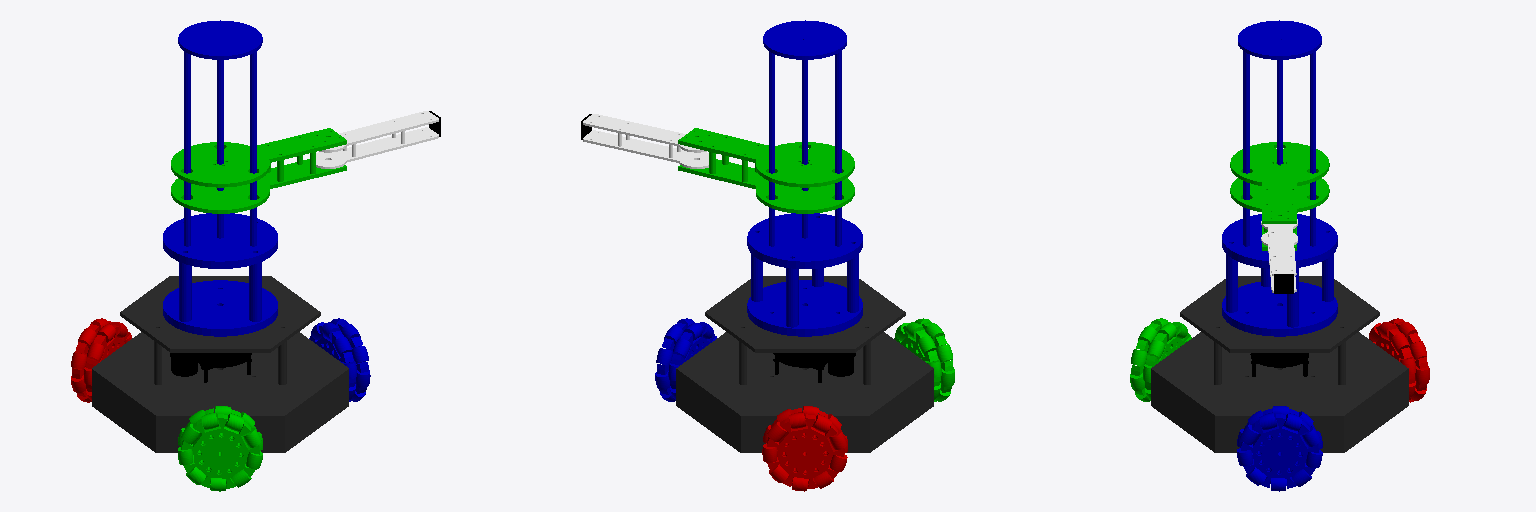
URDF robot description (My_robot):
<?xml version="1.0" encoding="utf-8"?>
<!-- This URDF was automatically created by SolidWorks to URDF Exporter! Originally created by [author] ([email redacted]) 
     Commit Version: 1.6.0-1-g15f4949  Build Version: 1.6.7594.29634
     For more information, please see http://wiki.ros.org/sw_urdf_exporter -->
<robot name="My_robot">
  <!---gazebo-->
  <gazebo>
    <plugin name="gazebo_ros_control" filename="libgazebo_ros_control.so">
      <robotNamespace>/My_robot</robotNamespace>
    </plugin>
  </gazebo>
  <gazebo reference="base_link">
    <kp>100000.0</kp>
    <kd>100.0</kd>
    <mu1>1.5</mu1>
    <mu2>1.5</mu2>
    <fdir1>1 0 0</fdir1>
    <maxVel>1.0</maxVel>
    <minDepth>0.001</minDepth>
    <material>Gazebo/Grey</material>
  </gazebo>
  <gazebo reference="lidar_Link">
    <kp>100000.0</kp>
    <kd>100.0</kd>
    <mu1>1.5</mu1>
    <mu2>1.5</mu2>
    <fdir1>1 0 0</fdir1>
    <maxVel>1.0</maxVel>
    <minDepth>0.001</minDepth>
    <material>Gazebo/Black</material>
  </gazebo>
  <gazebo reference="font_wheel_Link">
    <kp>100000.0</kp>
    <kd>100.0</kd>
    <mu1>1.5</mu1>
    <mu2>1.5</mu2>
    <fdir1>1 0 0</fdir1>
    <maxVel>1.0</maxVel>
    <minDepth>0.001</minDepth>
    <material>Gazebo/Blue</material>
  </gazebo>
  <gazebo reference="right_wheel_Link">
    <kp>100000.0</kp>
    <kd>100.0</kd>
    <mu1>1.5</mu1>
    <mu2>1.5</mu2>
    <fdir1>1 0 0</fdir1>
    <maxVel>1.0</maxVel>
    <minDepth>0.001</minDepth>
    <material>Gazebo/Green</material>
  </gazebo>
  <gazebo reference="left_wheel_Link">
    <kp>100000.0</kp>
    <kd>100.0</kd>
    <mu1>1.5</mu1>
    <mu2>1.5</mu2>
    <fdir1>1 0 0</fdir1>
    <maxVel>1.0</maxVel>
    <minDepth>0.001</minDepth>
    <material>Gazebo/Red</material>
  </gazebo>
  <gazebo reference="arm_Link">
    <kp>100000.0</kp>
    <kd>100.0</kd>
    <mu1>1.5</mu1>
    <mu2>1.5</mu2>
    <fdir1>1 0 0</fdir1>
    <maxVel>1.0</maxVel>
    <minDepth>0.001</minDepth>
    <material>Gazebo/Blue</material>
  </gazebo>
  <gazebo reference="arm1_Link">
    <kp>100000.0</kp>
    <kd>100.0</kd>
    <mu1>1.5</mu1>
    <mu2>1.5</mu2>
    <fdir1>1 0 0</fdir1>
    <maxVel>1.0</maxVel>
    <minDepth>0.001</minDepth>
    <material>Gazebo/Green</material>
  </gazebo>
  <gazebo reference="arm2_Link">
    <kp>100000.0</kp>
    <kd>100.0</kd>
    <mu1>1.5</mu1>
    <mu2>1.5</mu2>
    <fdir1>1 0 0</fdir1>
    <maxVel>1.0</maxVel>
    <minDepth>0.001</minDepth>
    <material>Gazebo/White</material>
  </gazebo>
  <gazebo reference="camera_Link">
    <kp>100000.0</kp>
    <kd>100.0</kd>
    <mu1>1.5</mu1>
    <mu2>1.5</mu2>
    <fdir1>1 0 0</fdir1>
    <maxVel>1.0</maxVel>
    <minDepth>0.001</minDepth>
    <material>Gazebo/Yellow</material>
  </gazebo>
  <gazebo reference="right_odom_Link">
    <kp>100000.0</kp>
    <kd>100.0</kd>
    <mu1>1.5</mu1>
    <mu2>1.5</mu2>
    <fdir1>1 0 0</fdir1>
    <maxVel>1.0</maxVel>
    <minDepth>0.001</minDepth>
    <material>Gazebo/White</material>
  </gazebo>
  <gazebo reference="font_odom_Link">
    <kp>100000.0</kp>
    <kd>100.0</kd>
    <mu1>1.5</mu1>
    <mu2>1.5</mu2>
    <fdir1>1 0 0</fdir1>
    <maxVel>1.0</maxVel>
    <minDepth>0.001</minDepth>
    <material>Gazebo/White</material>
  </gazebo>
  <gazebo reference="left_odom_Link">
    <kp>100000.0</kp>
    <kd>100.0</kd>
    <mu1>1.5</mu1>
    <mu2>1.5</mu2>
    <fdir1>1 0 0</fdir1>
    <maxVel>1.0</maxVel>
    <minDepth>0.001</minDepth>
    <material>Gazebo/White</material>
  </gazebo>
  <!--Robot-->
  <link name="base_link">
    <inertial>
      <origin xyz="3.90879417278001E-07 1.11577413974828E-14 0.0439890655400512" rpy="0 0 0" />
      <mass value="1.04484151447671" />
      <inertia ixx="0.00585605726577215" ixy="-2.73721501945711E-18" ixz="-6.76359904158392E-19" iyy="0.0058560534010825" iyz="-3.56355978001737E-19" izz="0.0114863693933343" />
    </inertial>
    <visual>
      <origin xyz="0 0 0" rpy="0 0 0" />
      <geometry>
        <mesh filename="package://My_robot/meshes/base_link.STL" />
      </geometry>
      <material name="grey">
        <color rgba="0.2 0.2 0.2 1.0"/>
      </material>
    </visual>
    <collision>
      <origin xyz="0 0 0" rpy="0 0 0" />
      <geometry>
        <mesh filename="package://My_robot/meshes/base_link.STL" />
      </geometry>
    </collision>
  </link>

  <link name="font_wheel_Link">
    <inertial>
      <origin xyz="-1.3878E-16 -1.8874E-15 -0.015" rpy="0 0 0" />
      <mass value="0.20892" />
      <inertia ixx="4.9248E-05" ixy="4.8731E-20" ixz="9.4402E-22" iyy="4.9248E-05" iyz="-1.1487E-20" izz="9.2317E-05" />
    </inertial>
    <visual>
      <origin xyz="0 0 0" rpy="0 0 0" />
      <geometry>
        <mesh filename="package://My_robot/meshes/font_wheel_Link.STL" />
      </geometry>
      <material name="blue">
        <color rgba="0.0 0.0 0.8 1.0"/>
      </material>
    </visual>
    <collision>
      <origin xyz="0 0 0" rpy="0 0 0" />
      <geometry>
        <mesh filename="package://My_robot/meshes/font_wheel_Link.STL" />
      </geometry>
    </collision>
  </link>
  <joint name="font_wheel_joint" type="continuous">
    <origin xyz="0.1799 0 0.02" rpy="1.5708 0 1.5708" />
    <parent link="base_link" />
    <child link="font_wheel_Link" />
    <axis xyz="0 0 -1" />
  </joint>

  <link name="font_odom_Link">
    <inertial>
      <origin xyz="0 0 0.015066" rpy="0 0 0" />
      <mass value="0.0090385" />
      <inertia ixx="8.5308E-07" ixy="-1.1305E-23" ixz="2.2448E-22" iyy="9.8433E-07" iyz="2.5042E-23" izz="4.6899E-07" />
    </inertial>
    <visual>
      <origin xyz="0 0 0" rpy="0 0 0" />
      <geometry>
        <mesh filename="package://My_robot/meshes/font_odom_Link.STL" />
      </geometry>
      <material name="white">
        <color rgba="1.0 1.0 1.0 1.0"/>
      </material>
    </visual>
    <collision>
      <origin xyz="0 0 0" rpy="0 0 0" />
      <geometry>
        <mesh filename="package://My_robot/meshes/font_odom_Link.STL" />
      </geometry>
    </collision>
  </link>
  <joint name="font_odom_joint" type="fixed">
    <origin xyz="0 0 -0.081" rpy="0 0 -3.14159265358979" />
    <parent link="font_wheel_Link" />
    <child link="font_odom_Link" />
    <axis xyz="0 0 0" />
  </joint>


  <link name="right_wheel_Link">
    <inertial>
      <origin xyz="2.2149E-14 2.0151E-14 -0.015" rpy="0 0 0" />
      <mass value="0.20892" />
      <inertia ixx="4.9248E-05" ixy="-1.0094E-20" ixz="2.3717E-20" iyy="4.9248E-05" iyz="-2.4658E-20" izz="9.2317E-05" />
    </inertial>
    <visual>
      <origin xyz="0 0 0" rpy="0 0 0" />
      <geometry>
        <mesh filename="package://My_robot/meshes/right_wheel_Link.STL" />
      </geometry>
      <material name="green">
        <color rgba="0.0 0.8 0.0 1.0"/>
      </material>
    </visual>
    <collision>
      <origin xyz="0 0 0" rpy="0 0 0" />
      <geometry>
        <mesh filename="package://My_robot/meshes/right_wheel_Link.STL" />
      </geometry>
    </collision>
  </link>
  <joint name="right_wheel_joint" type="continuous">
    <origin xyz="-0.089952 -0.1558 0.02" rpy="1.5708 0 -0.5236" />
    <parent link="base_link" />
    <child link="right_wheel_Link" />
    <axis xyz="0 0 -1" />
  </joint>



  <link name="right_odom_Link">
    <inertial>
      <origin xyz="-1.11022302462516E-16 5.55111512312578E-17 0.0150659966728316" rpy="0 0 0" />
      <mass value="0.00903848451000651" />
      <inertia ixx="8.53077601714409E-07" ixy="9.20118597973462E-23" ixz="1.12496563307212E-21" iyy="9.8432760171441E-07" iyz="-1.69440086344285E-22" izz="4.68985717623792E-07" />
    </inertial>
    <visual>
      <origin xyz="0 0 0" rpy="0 0 0" />
      <geometry>
        <mesh filename="package://My_robot/meshes/right_odom_Link.STL" />
      </geometry>
      <material name="white">
        <color rgba="1.0 1.0 1.0 1.0"/>
      </material>
    </visual>
    <collision>
      <origin xyz="0 0 0" rpy="0 0 0" />
      <geometry>
        <mesh filename="package://My_robot/meshes/right_odom_Link.STL" />
      </geometry>
    </collision>
  </link>
  <joint name="right_odom_joint" type="fixed">
    <origin xyz="0 0 -0.0810000000000007" rpy="0 0 0" />
    <parent link="right_wheel_Link" />
    <child link="right_odom_Link" />
    <axis xyz="-0.866025403784442 0 0.499999999999994" />
  </joint>





  <link name="left_wheel_Link">
    <inertial>
      <origin xyz="9.99200722162641E-16 1.66533453693773E-15 -0.0149999999999999" rpy="0 0 0" />
      <mass value="0.208921365228656" />
      <inertia ixx="4.92480864989309E-05" ixy="1.76501550538467E-20" ixz="-3.3881317890172E-21" iyy="4.92480864989306E-05" iyz="1.02418066947516E-20" izz="9.23169288151233E-05" />
    </inertial>
    <visual>
      <origin xyz="0 0 0" rpy="0 0 0" />
      <geometry>
        <mesh filename="package://My_robot/meshes/left_wheel_Link.STL" />
      </geometry>
      <material name="red">
        <color rgba="0.8 0.0 0.0 1.0"/>
      </material>
    </visual>
    <collision>
      <origin xyz="0 0 0" rpy="0 0 0" />
      <geometry>
        <mesh filename="package://My_robot/meshes/left_wheel_Link.STL" />
      </geometry>
    </collision>
  </link>
  <joint name="left_wheel_joint" type="continuous">
    <origin xyz="-0.089952 0.1558 0.02" rpy="1.5708 0 -2.618" />
    <parent link="base_link" />
    <child link="left_wheel_Link" />
    <axis xyz="0 0 -1" />
  </joint>


  <link name="left_odom_Link">
    <inertial>
      <origin xyz="0 0 0.015066" rpy="0 0 0" />
      <mass value="0.0090385" />
      <inertia ixx="8.5308E-07" ixy="-4.8937E-23" ixz="-4.3675E-22" iyy="9.8433E-07" iyz="-7.4973E-23" izz="4.6899E-07" />
    </inertial>
    <visual>
      <origin xyz="0 0 0" rpy="0 0 0" />
      <geometry>
        <mesh filename="package://My_robot/meshes/left_odom_Link.STL" />
      </geometry>
      <material name="white">
        <color rgba="1.0 1.0 1.0 1.0"/>
      </material>
    </visual>
    <collision>
      <origin xyz="0 0 0" rpy="0 0 0" />
      <geometry>
        <mesh filename="package://My_robot/meshes/left_odom_Link.STL" />
      </geometry>
    </collision>
  </link>
  <joint name="left_odom_joint" type="fixed">
    <origin xyz="0 0 -0.0809999999999999" rpy="0 0 0" />
    <parent link="left_wheel_Link" />
    <child link="left_odom_Link" />
    <axis xyz="0 0 0" />
  </joint>



  <link name="lidar_Link">
    <inertial>
      <origin xyz="-0.00829409957033955 7.82707232360735E-14 -0.00854885777715414" rpy="0 0 0" />
      <mass value="0.146695752131392" />
      <inertia ixx="6.22721120792819E-05" ixy="1.71640368936764E-19" ixz="-1.88658076337422E-05" iyy="0.000109673997590949" iyz="-1.60699862691652E-19" izz="0.000125682524275729" />
    </inertial>
    <visual>
      <origin xyz="0 0 0" rpy="0 0 0" />
      <geometry>
        <mesh filename="package://My_robot/meshes/lidar_Link.STL" />
      </geometry>
      <material name="black">
        <color rgba="0.0 0.0 0.0 1.0"/>
      </material>
    </visual>
    <collision>
      <origin xyz="0 0 0" rpy="0 0 0" />
      <geometry>
        <mesh filename="package://My_robot/meshes/lidar_Link.STL" />
      </geometry>
    </collision>
  </link>
  <joint name="lidar_joint" type="fixed">
    <origin xyz="0 0 0.0962499999999427" rpy="0 0 0" />
    <parent link="base_link" />
    <child link="lidar_Link" />
    <axis xyz="0 0 0" />
  </joint>



  <link name="arm_Link">
    <inertial>
      <origin xyz="-1.1102E-16 -1.1102E-16 0.089524" rpy="0 0 0" />
      <mass value="0.44715" />
      <inertia ixx="0.00073659" ixy="8.6223E-20" ixz="-1.3961E-22" iyy="0.00073659" iyz="6.0765E-22" izz="0.00079837" />
    </inertial>
    <visual>
      <origin xyz="0 0 0" rpy="0 0 0" />
      <geometry>
        <mesh filename="package://My_robot/meshes/arm_Link.STL" />
      </geometry>
      <material name="blue">
        <color rgba="0.0 0.0 0.8 1.0"/>
      </material>
    </visual>
    <collision>
      <origin xyz="0 0 0" rpy="0 0 0" />
      <geometry>
        <mesh filename="package://My_robot/meshes/arm_Link.STL" />
      </geometry>
    </collision>
  </link>
  <joint name="arm_joint" type="fixed">
    <origin xyz="0 0 0.135" rpy="0 0 0" />
    <parent link="base_link" />
    <child link="arm_Link" />
    <axis xyz="0 0 0" />
  </joint>


  <link name="arm1_Link">
    <inertial>
      <origin xyz="0.0346617299457402 1.02695629777827E-15 0.0149736149476148" rpy="0 0 0" />
      <mass value="0.155903532832756" />
      <inertia ixx="0.000103298611136068" ixy="1.53504463235121E-18" ixz="6.95815988584628E-09" iyy="0.000525260211617603" iyz="-3.72382769845771E-23" izz="0.000627153239789967" />
    </inertial>
    <visual>
      <origin xyz="0 0 0" rpy="0 0 0" />
      <geometry>
        <mesh filename="package://My_robot/meshes/arm1_Link.STL" />
      </geometry>
      <material name="green">
        <color rgba="0.0 0.8 0.0 1.0"/>
      </material>
    </visual>
    <collision>
      <origin xyz="0 0 0" rpy="0 0 0" />
      <geometry>
        <mesh filename="package://My_robot/meshes/arm1_Link.STL" />
      </geometry>
    </collision>
  </link>
  <joint name="arm1_joint" type="prismatic">
    <origin xyz="0 0 0.15396" rpy="0 0 0" />
    <parent link="arm_Link" />
    <child link="arm1_Link" />
    <axis xyz="0 0 1" />
    <limit lower="0" upper="0.1" effort="2" velocity="2" />
    <dynamics friction="0.1" />
  </joint>
  <link name="arm2_Link">
    <inertial>
      <origin xyz="0.060877 0.0021211 0.0095" rpy="0 0 0" />
      <mass value="0.033192" />
      <inertia ixx="3.0913E-06" ixy="-2.7135E-06" ixz="3.3629E-22" iyy="8.0876E-05" iyz="1.4466E-23" izz="8.3862E-05" />
    </inertial>
    <visual>
      <origin xyz="0 0 0" rpy="0 0 0" />
      <geometry>
        <mesh filename="package://My_robot/meshes/arm2_Link.STL" />
      </geometry>
      <material name="white">
        <color rgba="1.0 1.0 1.0 1.0"/>
      </material>
    </visual>
    <collision>
      <origin xyz="0 0 0" rpy="0 0 0" />
      <geometry>
        <mesh filename="package://My_robot/meshes/arm2_Link.STL" />
      </geometry>
    </collision>
  </link>
  <joint name="arm2_joint" type="revolute">
    <origin xyz="0.15062 0 0.005" rpy="0 0 0" />
    <parent link="arm1_Link" />
    <child link="arm2_Link" />
    <axis xyz="0 0 1" />
    <limit lower="-1" upper="1" effort="2" velocity="2" />
    <dynamics friction="0.1" />
  </joint>
  <link name="camera_Link">
    <inertial>
      <origin xyz="0 0 -0.00329934435209411" rpy="0 0 0" />
      <mass value="0.00195707963267948" />
      <inertia ixx="9.70370579973821E-08" ixy="1.30119467975669E-23" ixz="-2.64697796016969E-23" iyy="8.96870579973829E-08" iyz="6.70724807977344E-25" izz="1.82113495408492E-07" />
    </inertial>
    <visual>
      <origin xyz="0 0 0" rpy="0 0 0" />
      <geometry>
        <mesh filename="package://My_robot/meshes/camera_Link.STL" />
      </geometry>
      <material name="black">
        <color rgba="0.0 0.0 0.0 1.0"/>
      </material>
    </visual>
    <collision>
      <origin xyz="0 0 0" rpy="0 0 0" />
      <geometry>
        <mesh filename="package://My_robot/meshes/camera_Link.STL" />
      </geometry>
    </collision>
  </link>
  <joint name="camera_joint" type="fixed">
    <origin xyz="0.154906002898303 0.00539724615623074 0.00950000000000017" rpy="-1.5707963267949 0 -1.53596834328829" />
    <parent link="arm2_Link" />
    <child link="camera_Link" />
    <axis xyz="0 0 0" />
  </joint>


<!-- Transmission cho khop1 -->
        <transmission name="arm1_trans">
            <type>transmission_interface/SimpleTransmission</type>
            <actuator name="arm1_motor">
                <hardwareInterface>hardware_interface/PositionJointInterface</hardwareInterface>
                <mechanicalReduction>1</mechanicalReduction>
            </actuator>
            <joint name="arm1_joint">
                <hardwareInterface>hardware_interface/PositionJointInterface</hardwareInterface>
            </joint>
        </transmission>
        
  <!-- Transmission cho khop2 -->
        <transmission name="arm2_trans">
            <type>transmission_interface/SimpleTransmission</type>
            <actuator name="arm2_motor">
                <hardwareInterface>hardware_interface/PositionJointInterface</hardwareInterface>
                <mechanicalReduction>1</mechanicalReduction>
            </actuator>
            <joint name="arm2_joint">
                <hardwareInterface>hardware_interface/PositionJointInterface</hardwareInterface>
            </joint>
        </transmission>


  <gazebo>
            <plugin name ="gazebo_ros_control" filename = "libgazebo_ros_control.so">
                <robotNamespace>/</robotNamespace>
            </plugin>
        </gazebo>



</robot>

--- What the picture shows (computed from the rendered views, not written in the file) ---
The picture shows the robot from 3 angles, left to right: view 1: azimuth 30°, elevation 25°; view 2: azimuth 150°, elevation 25°; view 3: azimuth 270°, elevation 25°; orthographic projection.
Robot: My_robot — 12 links, 11 joints (1 revolute, 3 continuous, 1 prismatic, 6 fixed); root link base_link; default pose: all joints at 0.
Visible links, largest first — view 1: base_link, arm_Link, arm1_Link, right_wheel_Link, arm2_Link, left_wheel_Link, font_wheel_Link, lidar_Link; view 2: base_link, arm_Link, arm1_Link, left_wheel_Link, arm2_Link, right_wheel_Link, font_wheel_Link, lidar_Link; view 3: base_link, arm_Link, arm1_Link, font_wheel_Link, left_wheel_Link, right_wheel_Link, arm2_Link, lidar_Link.
Link boxes in pixels (x1,y1,x2,y2): base_link: [92, 276, 348, 452]; arm_Link: [163, 20, 277, 336]; arm1_Link: [171, 128, 346, 213]; right_wheel_Link: [178, 406, 262, 491]; arm2_Link: [316, 111, 438, 168]; left_wheel_Link: [71, 318, 131, 402]; font_wheel_Link: [309, 318, 370, 401]; lidar_Link: [170, 353, 251, 382]; base_link: [676, 276, 933, 452]; arm_Link: [747, 20, 862, 336]; arm1_Link: [678, 128, 854, 213]; left_wheel_Link: [762, 406, 847, 491]; arm2_Link: [583, 114, 708, 168]; right_wheel_Link: [894, 318, 954, 401]; font_wheel_Link: [655, 318, 716, 401]; lidar_Link: [773, 353, 855, 382]; base_link: [1151, 276, 1408, 452]; arm_Link: [1222, 20, 1337, 336]; arm1_Link: [1230, 142, 1329, 250]; font_wheel_Link: [1237, 406, 1322, 491]; left_wheel_Link: [1369, 318, 1429, 402]; right_wheel_Link: [1130, 318, 1191, 401]; arm2_Link: [1261, 219, 1297, 292]; lidar_Link: [1250, 353, 1308, 376].
Bounding box of the posed robot: 0.4406 × 0.3624 × 0.5218 m (x, y, z).
12 mesh visuals loaded from 12 distinct referenced files (12 binary STL).
